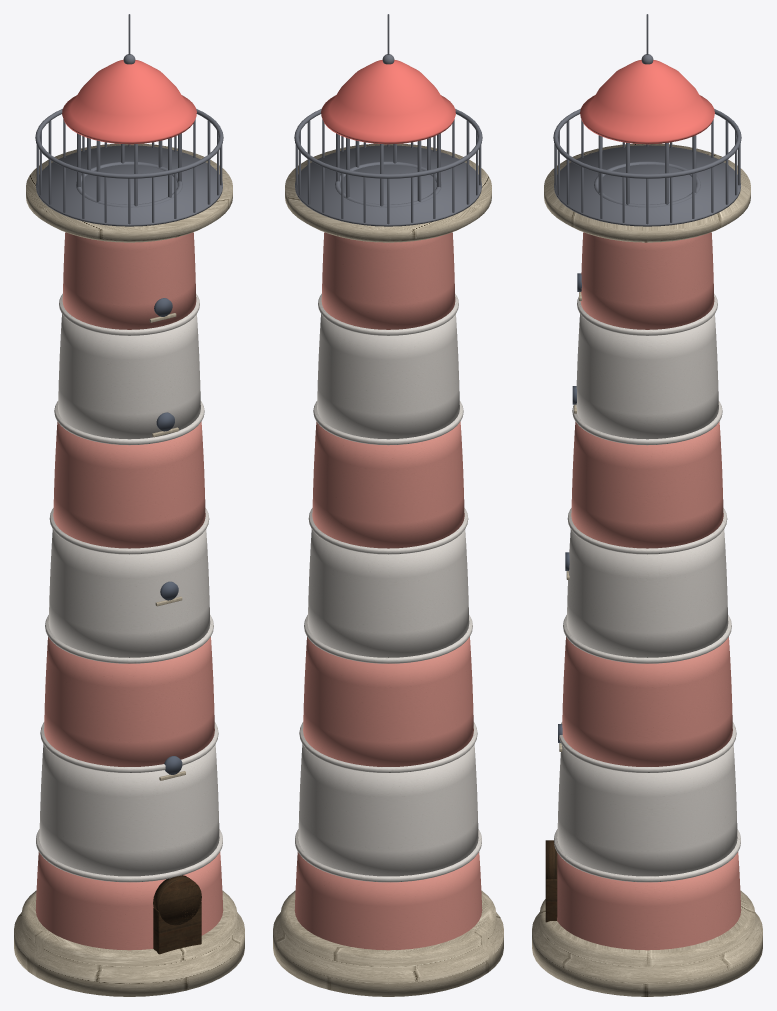
Rendered from lighthouse.glb.
3 renders of one model, left to right at view 1: azimuth 30°, elevation 25°; view 2: azimuth 150°, elevation 25°; view 3: azimuth 270°, elevation 25°, orthographic.
Visible parts, largest first — view 1: farol; view 2: farol; view 3: farol.
Part boxes in pixels (bbox=[...]): farol: bbox=[14, 14, 244, 996]; farol: bbox=[273, 14, 503, 996]; farol: bbox=[532, 14, 762, 996].
Size of the model in its own units: 3.9 by 17.4 by 3.9.
Materials: 7 (4 with a texture image).
